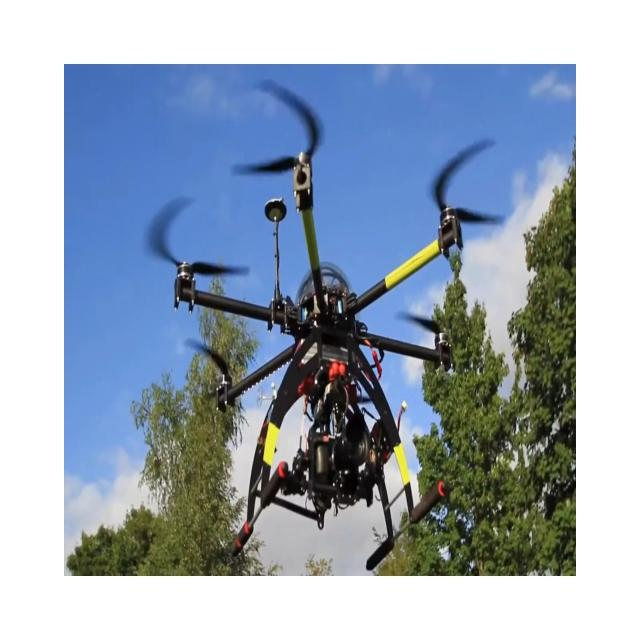drone: (146, 77, 506, 570)
